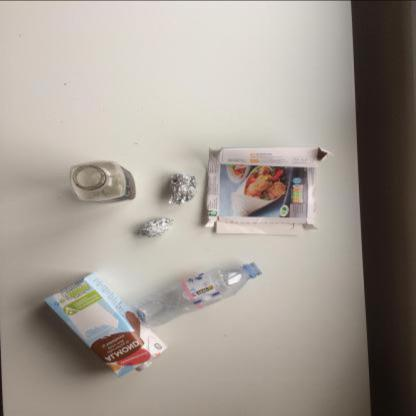Aluminium foil: (169, 172, 198, 204), (137, 218, 174, 238)
Bottle cap: (132, 262, 263, 329), (70, 160, 136, 204)
Carton: (43, 272, 168, 378), (205, 147, 334, 235)
